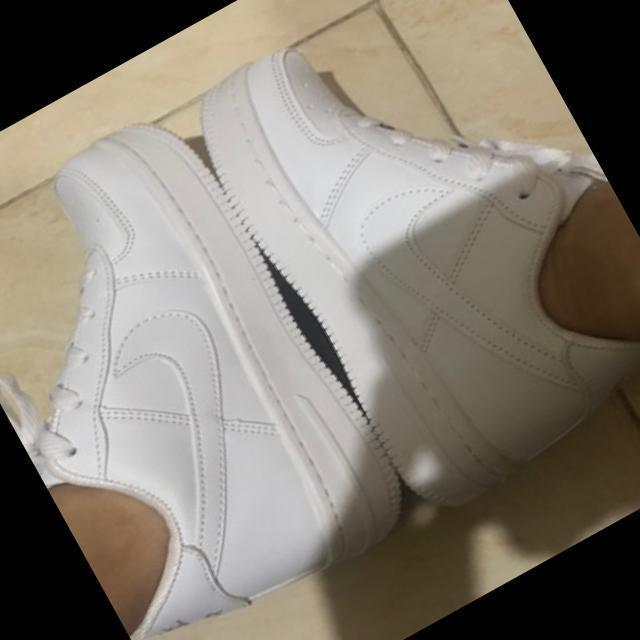nike fake air force: (175, 0, 640, 540), (0, 86, 431, 640)
